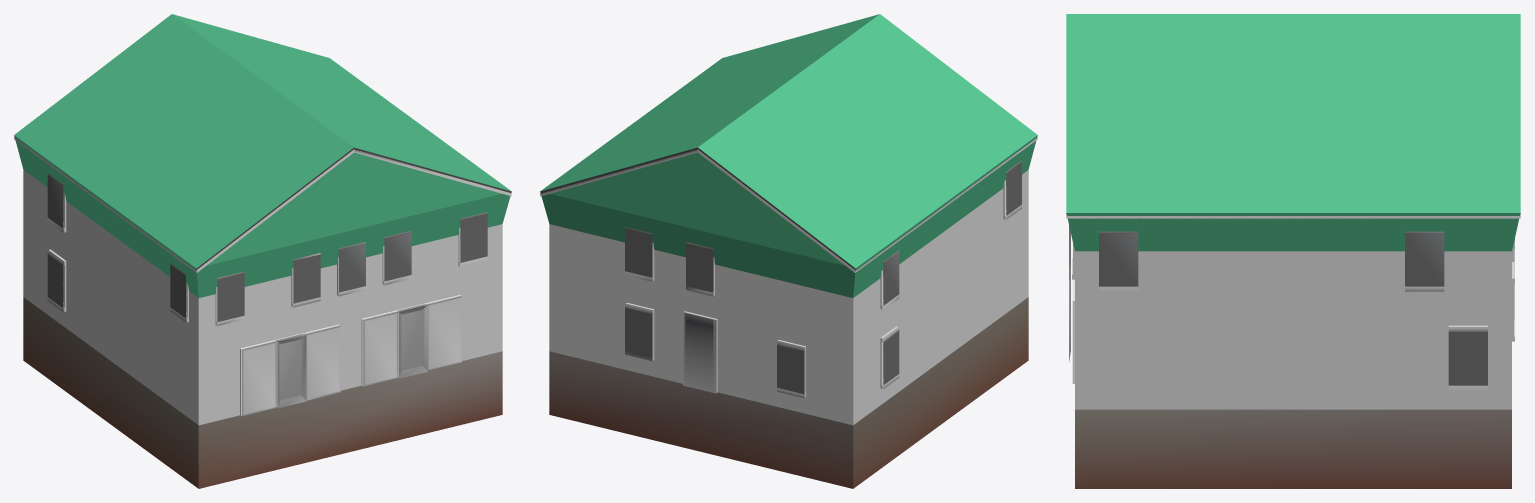
The model's file is eca_bld_shop_town_d.dae.
3 renders of one model, left to right at view 1: azimuth 30°, elevation 25°; view 2: azimuth 150°, elevation 25°; view 3: azimuth 270°, elevation 25°, orthographic. The views are drawn at different scales.
Parts seen in each view (by area): view 1: ind_bld_a100, Colmesh-1, ind_bld_a400; view 2: Colmesh-1, ind_bld_a100, ind_bld_a400; view 3: ind_bld_a100, Colmesh-1, ind_bld_a400.
Boxes of the visible parts, x1=… form: ind_bld_a100: x1=14, y1=137, x2=511, y2=488; Colmesh-1: x1=14, y1=14, x2=511, y2=297; ind_bld_a400: x1=14, y1=138, x2=511, y2=424; Colmesh-1: x1=540, y1=14, x2=1037, y2=297; ind_bld_a100: x1=540, y1=137, x2=1037, y2=488; ind_bld_a400: x1=540, y1=139, x2=1037, y2=424; ind_bld_a100: x1=1066, y1=214, x2=1520, y2=488; Colmesh-1: x1=1066, y1=14, x2=1520, y2=251; ind_bld_a400: x1=1066, y1=213, x2=1520, y2=409.
Size of the model in its own units: 10.39 by 10.4 by 9.66.
